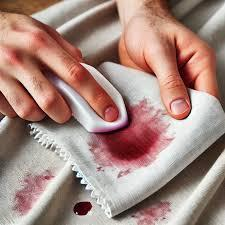oil: (87, 105, 164, 159), (20, 171, 53, 212), (129, 195, 170, 225), (71, 200, 92, 217)
